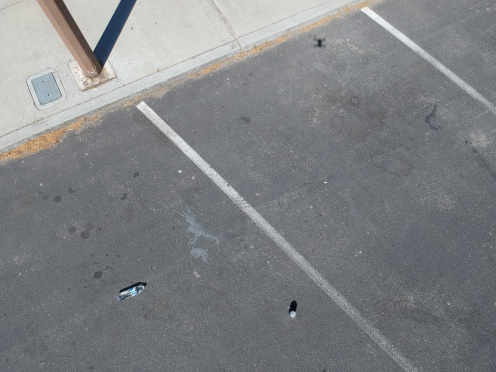bottle: (108, 280, 151, 301)
can: (286, 307, 301, 321)
